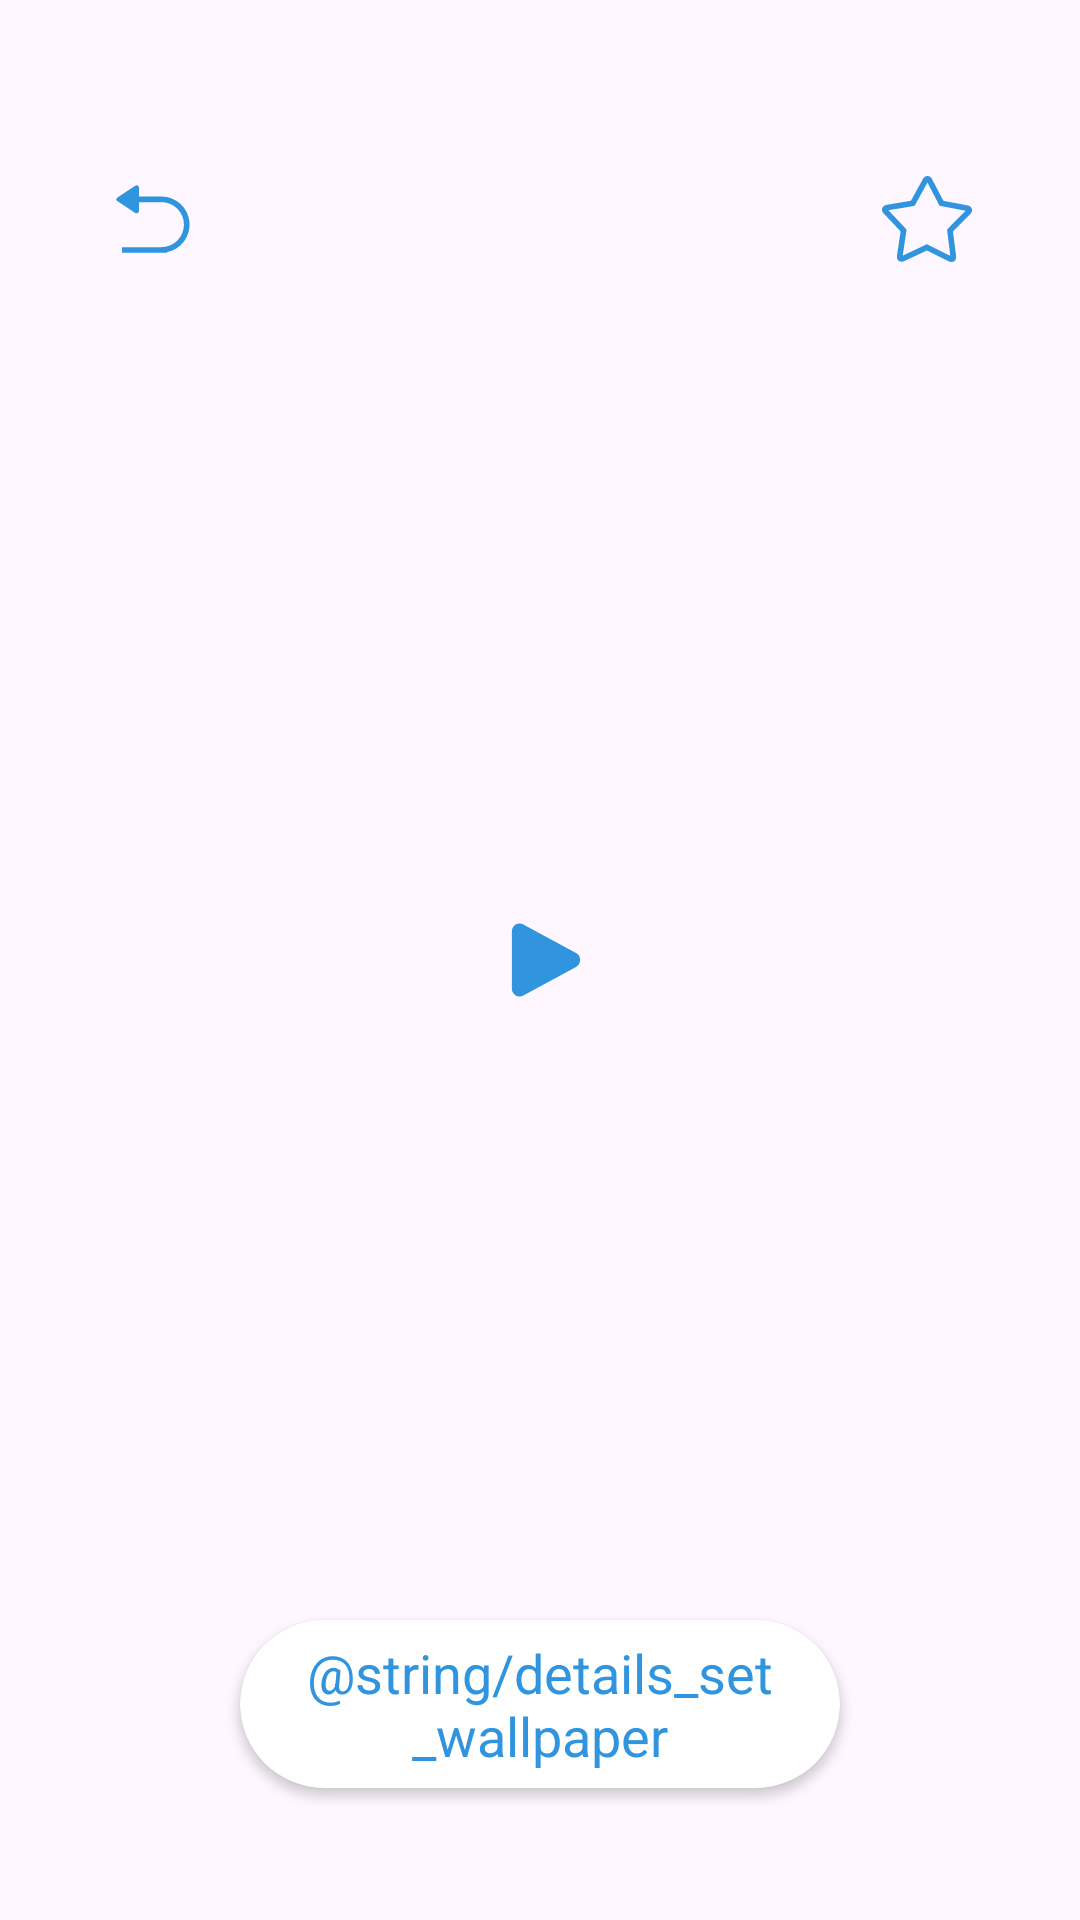

Named icons in this screenshot (1080×1920) and their centers, point (x, y):
back: point (153, 219)
details collect: point (927, 219)
play: point (545, 960)
